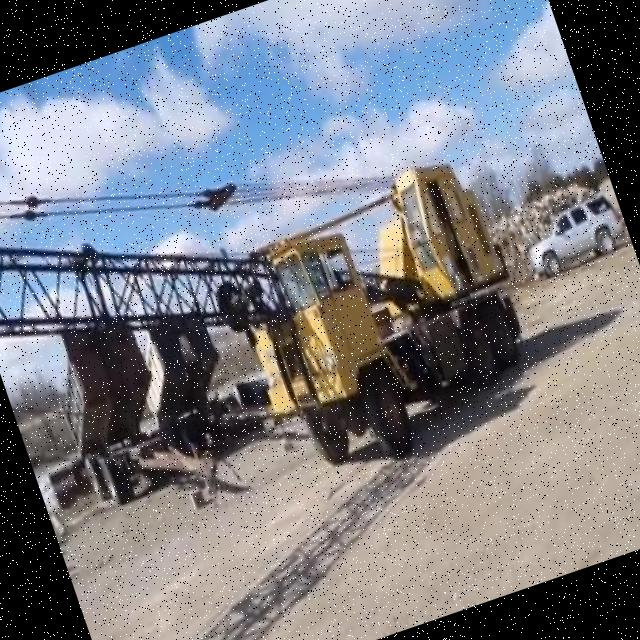Mobile Crane: (0, 56, 547, 568)
